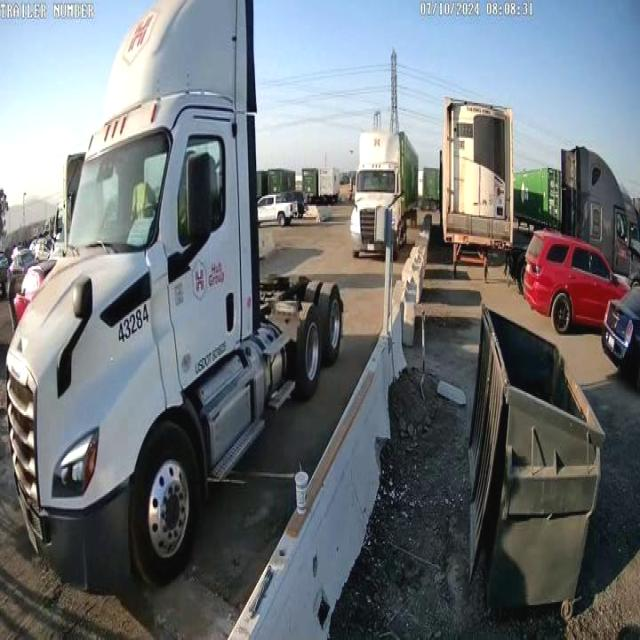CONTAINER: (392, 132, 421, 221)
